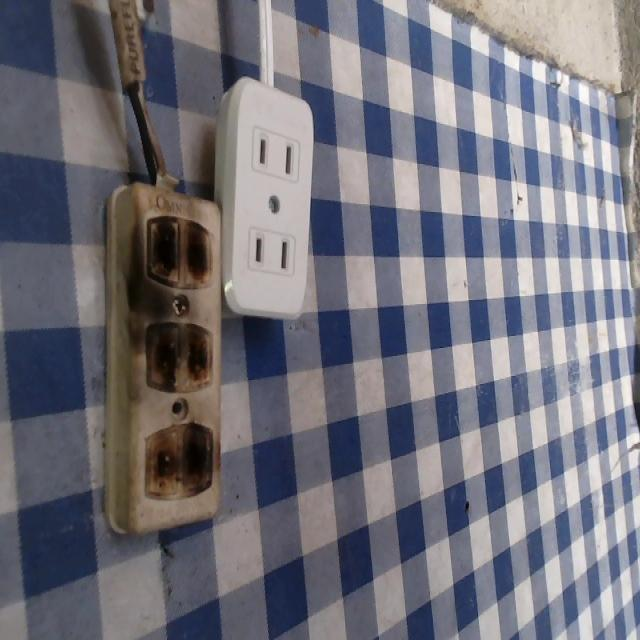-: (139, 419, 220, 501), (142, 209, 219, 295), (140, 316, 216, 400)
